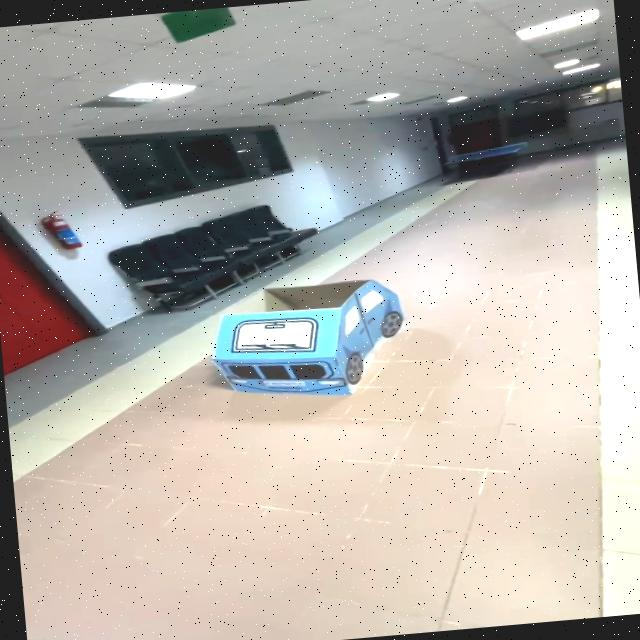blue_car: (195, 260, 435, 430)
